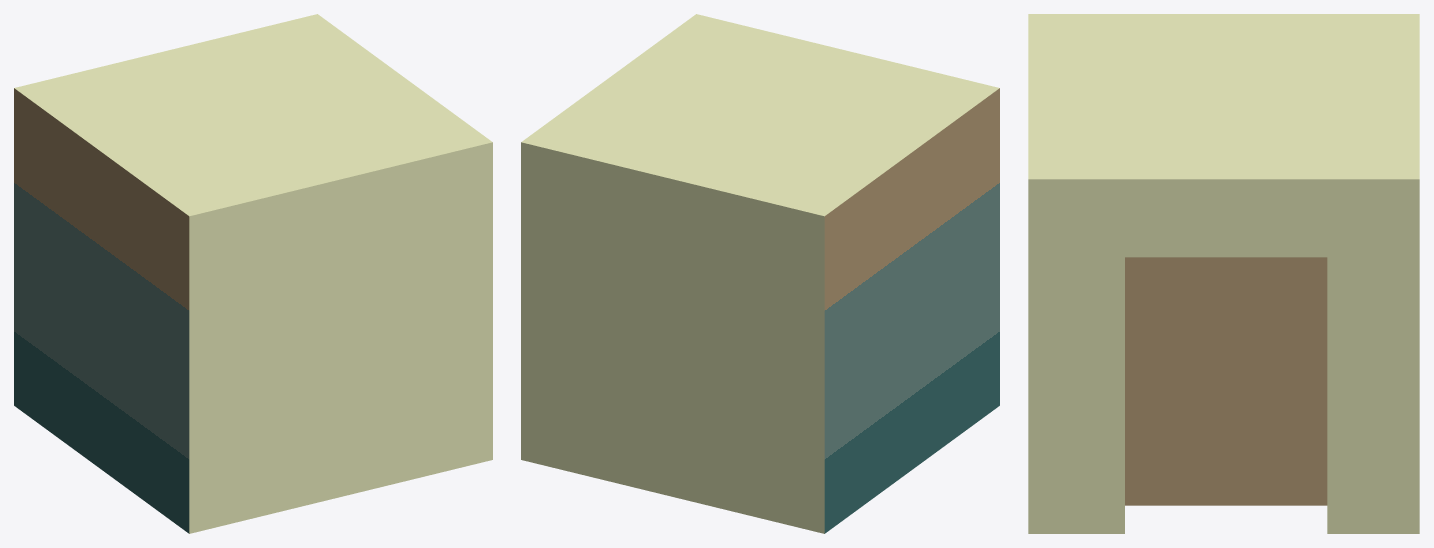
File: PuertaSimple.fbx
3 views of the same model, side by side, from view 1: azimuth 30°, elevation 25°; view 2: azimuth 150°, elevation 25°; view 3: azimuth 270°, elevation 25° (orthographic). The views are drawn at different scales.
Visible parts, largest first — view 1: Cube.005; view 2: Cube.005; view 3: Cube.005.
Boxes of the visible parts, left/top/right/bottom form: Cube.005: left=14, top=14, right=492, bottom=533; Cube.005: left=521, top=14, right=999, bottom=533; Cube.005: left=1028, top=14, right=1419, bottom=533.
Bounding box in the file's own units: 58.48 × 58.48 × 58.48.
